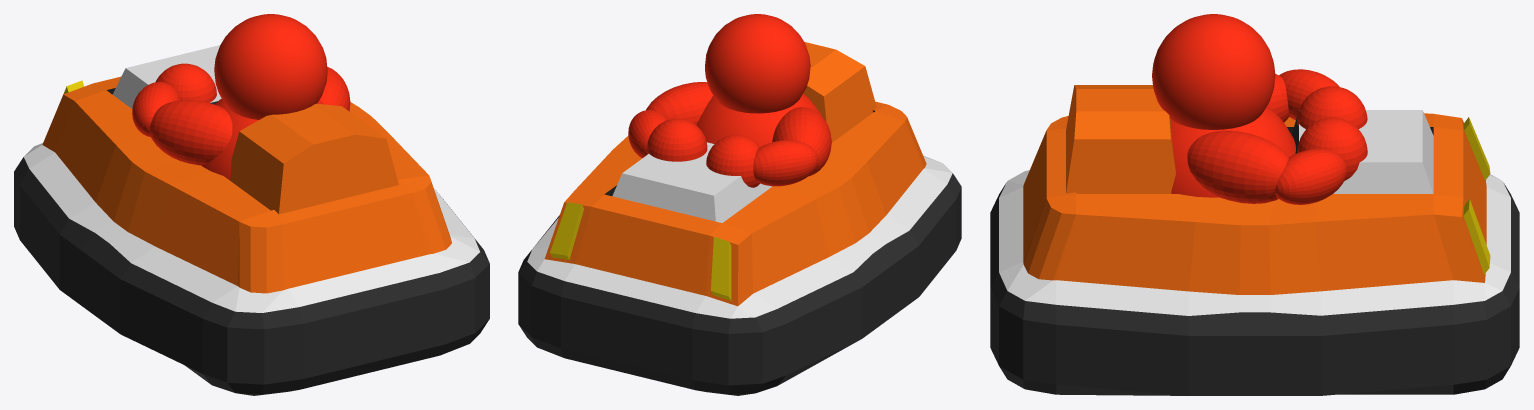
File: autoRojo (9).fbx
The picture shows the model from 3 angles, left to right: view 1: azimuth 30°, elevation 25°; view 2: azimuth 150°, elevation 25°; view 3: azimuth 270°, elevation 25°; orthographic projection. The views are drawn at different scales.
Parts seen in each view (by area): view 1: AutoRojo; view 2: AutoRojo; view 3: AutoRojo.
Boxes of the visible parts, x1,y1,x2,y2 form: AutoRojo: (14,14,489,395); AutoRojo: (518,14,961,395); AutoRojo: (990,14,1519,395).
Size of the model in its own units: 460 by 401 by 600.
